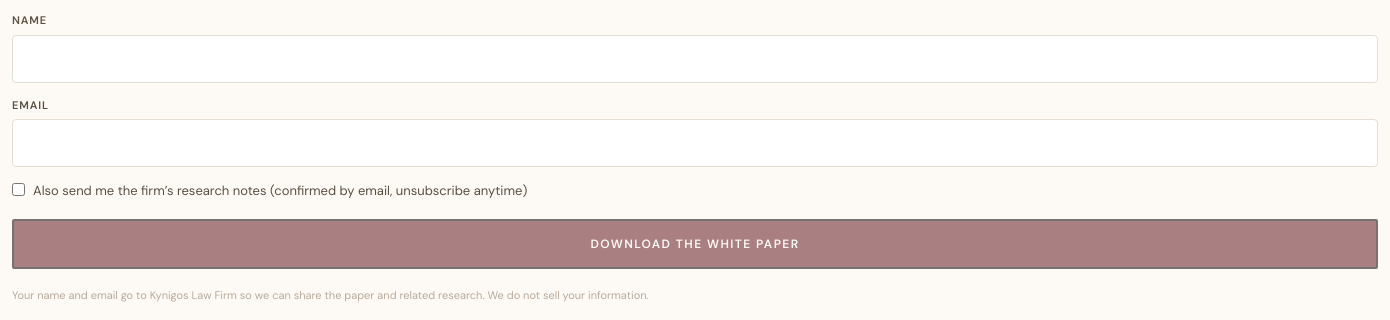
Test: WhitePaperGate newsletter checkbox › sends subscribe:true inside the lead POST when opted in (piggybacks the verified request)
Step 1. Type "Jordan Reyes" into the field labelled "Name" → coordinates (695, 58), box [12,34,1378,82]
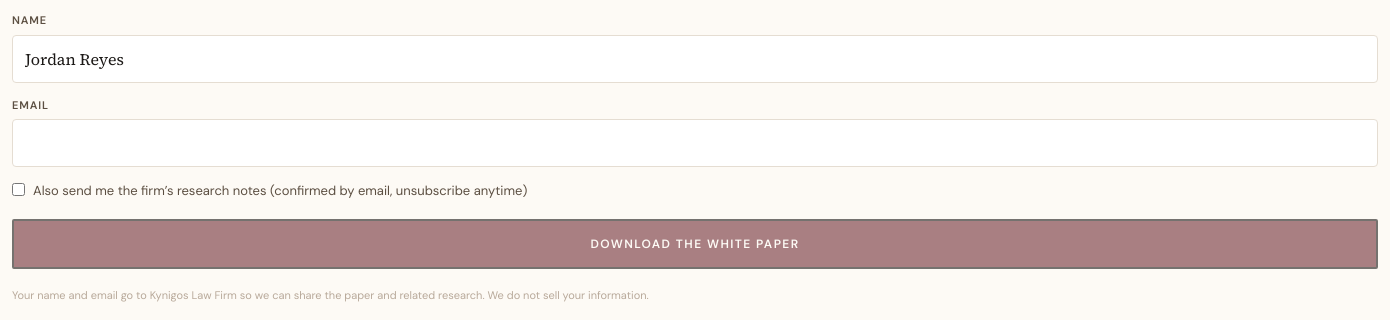
Step 2. Type "jordan@example.com" into the field labelled "Email" → coordinates (695, 143), box [12,119,1378,167]
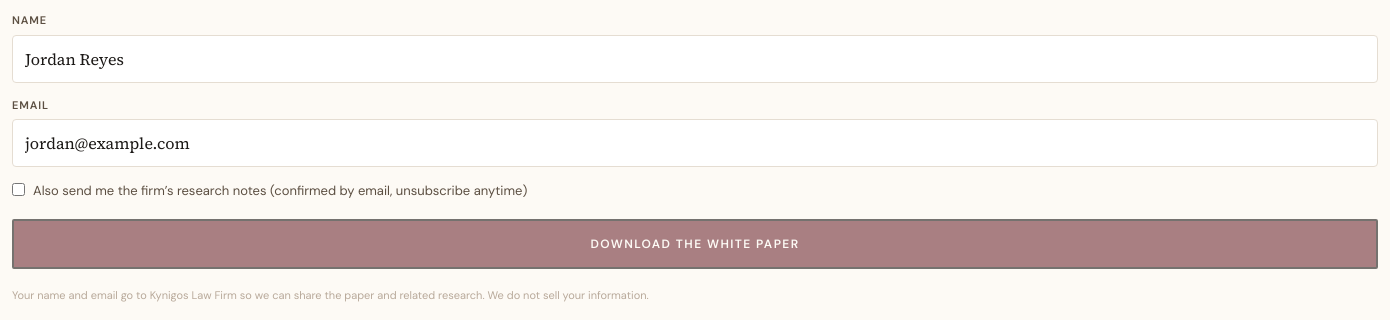
Step 3. Click the checkbox labelled "research notes" → coordinates (18, 190), box [12,183,25,196]
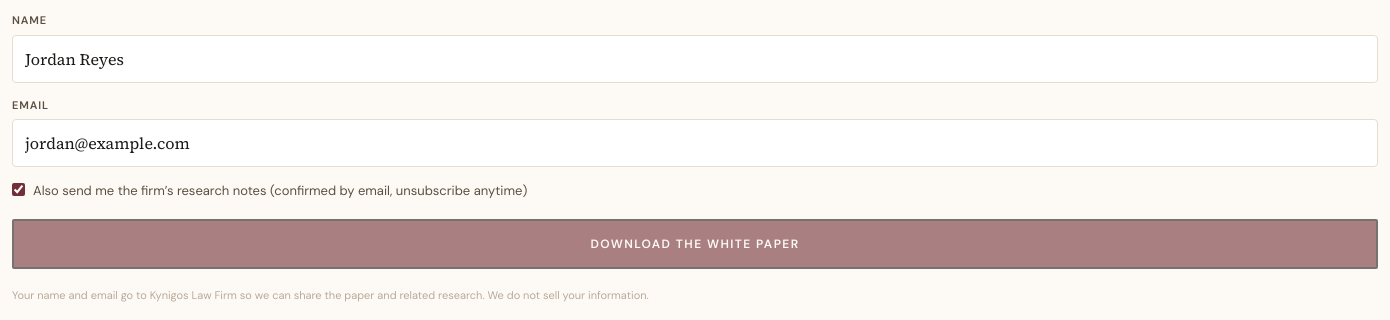
Step 4. Submit the form
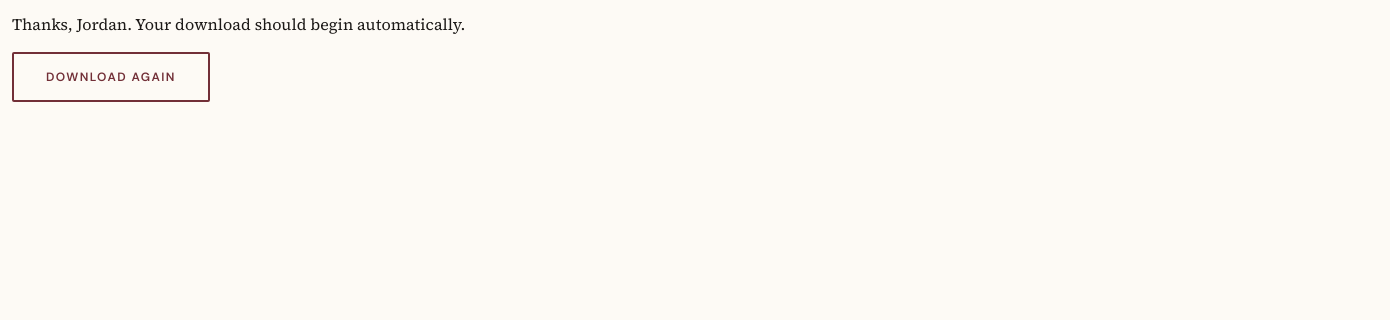
Check: the message "Thanks, Jordan. Your download should begin automatically. Download again" is shown, box [12,13,465,102]
